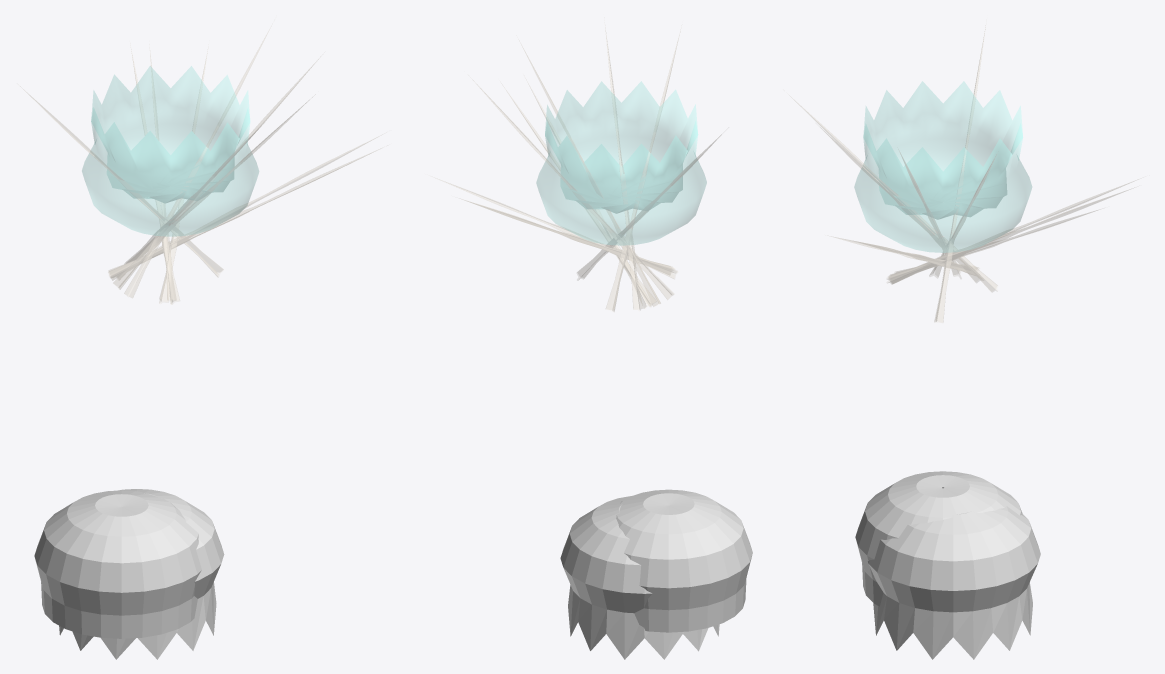
Rendered from jellyfish textured.fbx.
3 renders of one model, left to right at view 1: azimuth 30°, elevation 25°; view 2: azimuth 150°, elevation 25°; view 3: azimuth 270°, elevation 25°, orthographic. The views are drawn at different scales.
Visible parts, largest first — view 1: Connect_2, Lathe, Inner_Tentacles, Connect; view 2: Connect_2, Lathe, Connect, Inner_Tentacles; view 3: Connect_2, Connect, Lathe, Inner_Tentacles.
Boxes of the visible parts, <box> form: Connect_2: <box>82,66,258,236</box>; Lathe: <box>34,490,201,638</box>; Inner_Tentacles: <box>20,26,382,304</box>; Connect: <box>59,489,224,659</box>; Connect_2: <box>536,81,706,245</box>; Lathe: <box>616,489,752,632</box>; Connect: <box>560,496,719,659</box>; Inner_Tentacles: <box>436,27,721,311</box>; Connect_2: <box>854,81,1031,252</box>; Connect: <box>868,506,1040,659</box>; Lathe: <box>855,471,1022,606</box>; Inner_Tentacles: <box>790,27,1138,322</box>.
Size of the model in its own units: 371 by 639 by 380.
